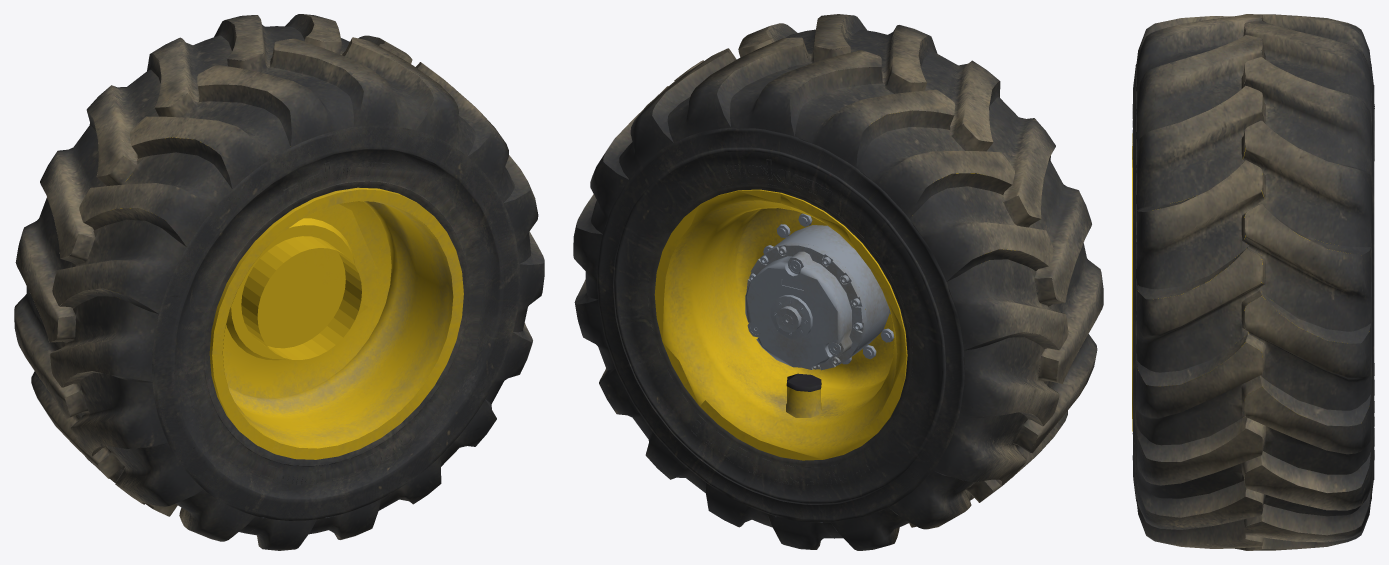
The model's file is LF_WHEEL.dae.
The picture shows the model from 3 angles, left to right: view 1: azimuth 30°, elevation 25°; view 2: azimuth 150°, elevation 25°; view 3: azimuth 270°, elevation 25°; orthographic projection. The views are drawn at different scales.
Visible parts, largest first — view 1: Mesh; view 2: Mesh; view 3: Mesh.
Part boxes in pixels (box(x1,y1,x2,y2)): Mesh: box(14, 14, 544, 550); Mesh: box(573, 14, 1103, 550); Mesh: box(1132, 14, 1374, 550).
Bounding box in the file's own units: 1.26 × 0.5682 × 1.26.
Materials: 1 (1 with a texture image).
